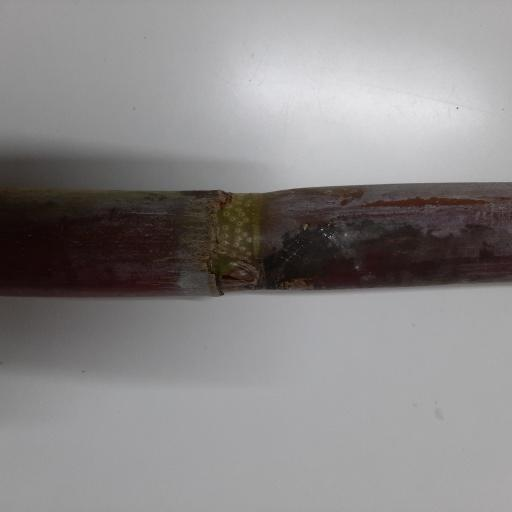Bud: (218, 262, 257, 287)
